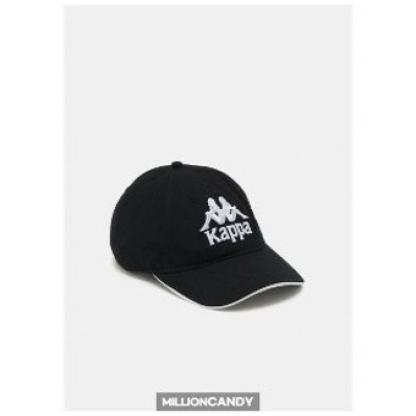cap: (101, 152, 310, 320)
